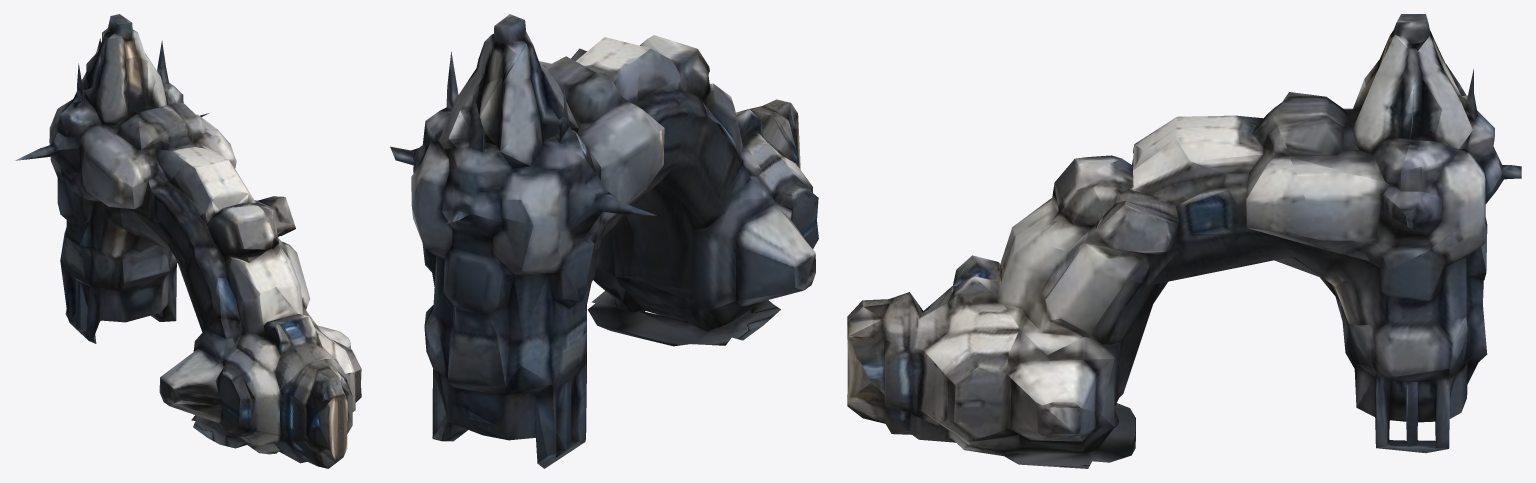
File: dock_arch.glb
The picture shows the model from 3 angles, left to right: view 1: azimuth 30°, elevation 25°; view 2: azimuth 150°, elevation 25°; view 3: azimuth 270°, elevation 25°; orthographic projection. The views are drawn at different scales.
Parts seen in each view (by area): view 1: DockArch; view 2: DockArch; view 3: DockArch.
Part boxes in pixels (x1,y1,x2,y2): DockArch: (14,14,361,468); DockArch: (390,14,818,468); DockArch: (847,14,1521,468).
Size of the model in its own units: 0.29 by 0.4189 by 0.6197.
1 material, 1 textured.
